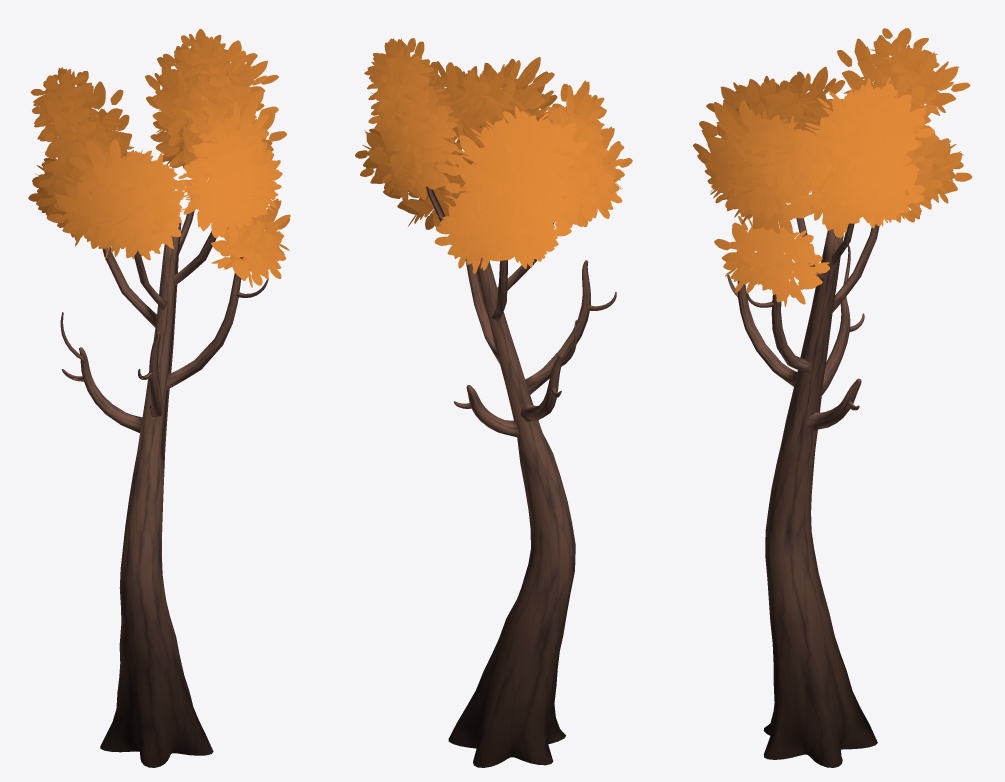
File: CommonTree_4_Outono.gltf
3 renders of one model, left to right at view 1: azimuth 30°, elevation 25°; view 2: azimuth 150°, elevation 25°; view 3: azimuth 270°, elevation 25°, orthographic. The views are drawn at different scales.
Visible parts, largest first — view 1: CommonTree_4; view 2: CommonTree_4; view 3: CommonTree_4.
Boxes of the visible parts, x1,y1,x2,y2 form: CommonTree_4: [28, 29, 290, 767]; CommonTree_4: [355, 38, 632, 767]; CommonTree_4: [693, 28, 972, 767].
Size of the model in its own units: 3.83 by 9.44 by 3.76.
Materials: 2 (2 with a texture image).
